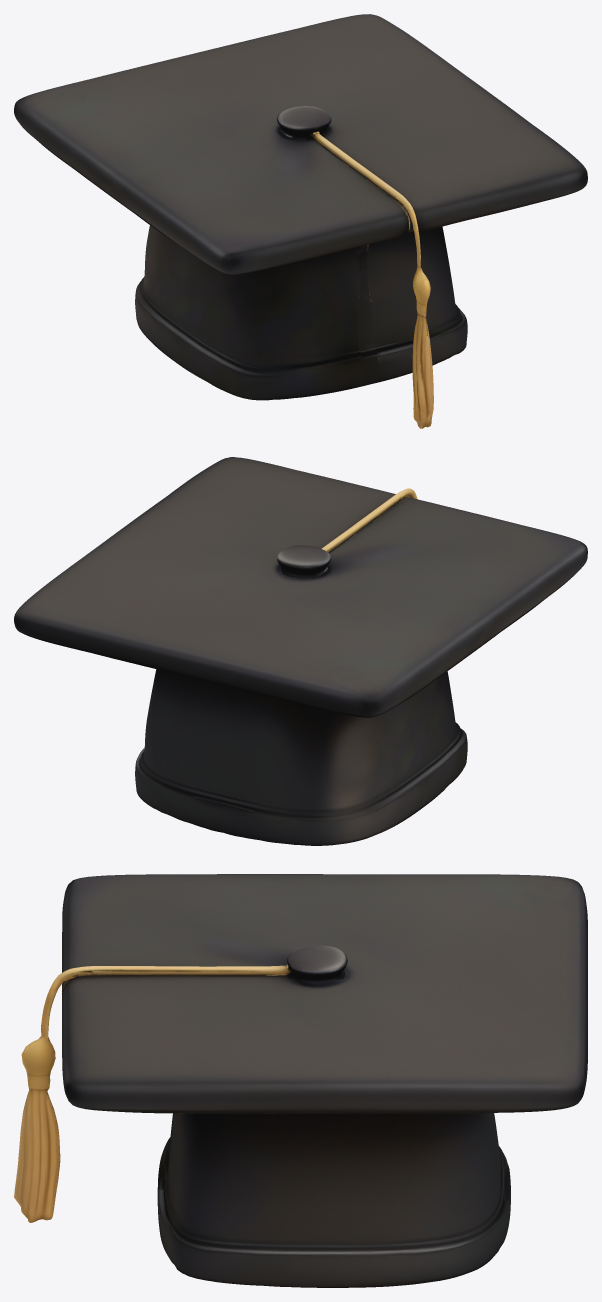
The model's file is base_basic_shaded.glb.
3 views of the same model, one above another, from view 1: azimuth 30°, elevation 25°; view 2: azimuth 150°, elevation 25°; view 3: azimuth 270°, elevation 25° (orthographic). The views are drawn at different scales.
Visible parts, largest first — view 1: model; view 2: model; view 3: model.
Part boxes in pixels (x1,y1,x2,y2): model: (14,14,587,428); model: (14,457,587,845); model: (14,874,587,1287).
Size of the model in its own units: 1.66 by 0.9611 by 1.87.
1 material, 1 textured.
